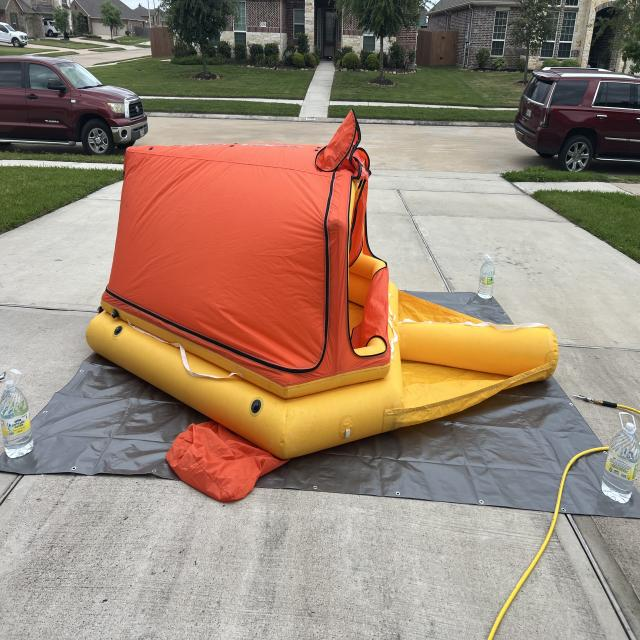Multi-person_life_raft: (85, 105, 558, 505)
